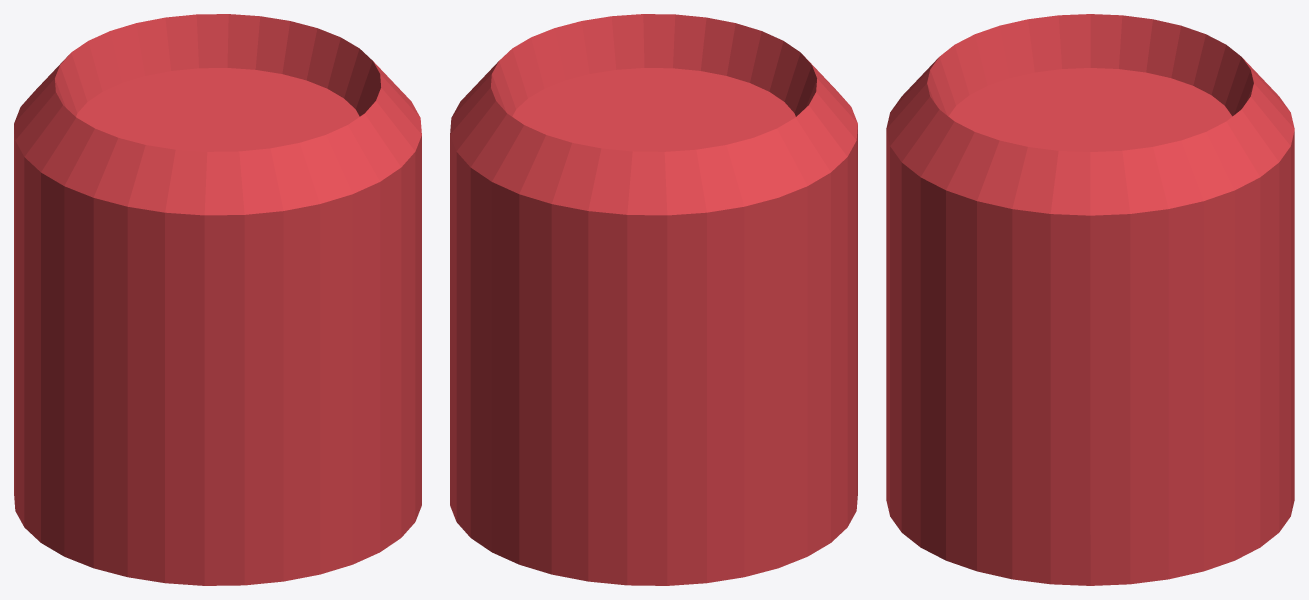
Rendered from canPos.glb.
The picture shows the model from 3 angles, left to right: view 1: azimuth 30°, elevation 25°; view 2: azimuth 150°, elevation 25°; view 3: azimuth 270°, elevation 25°; orthographic projection.
Visible parts, largest first — view 1: Cylinder.007; view 2: Cylinder.007; view 3: Cylinder.007.
Part boxes in pixels (x1,y1,x2,y2): Cylinder.007: (14,14,421,585); Cylinder.007: (450,14,857,585); Cylinder.007: (886,14,1294,585).
Bounding box in the file's own units: 0.08 × 0.09 × 0.08.
